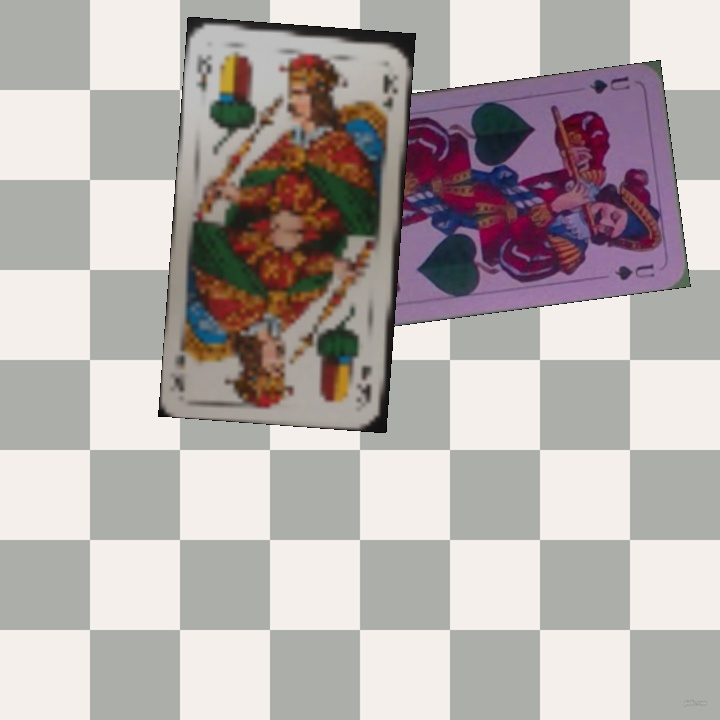EK: (191, 50, 215, 95), (356, 362, 375, 405)
GU: (585, 71, 633, 97)
